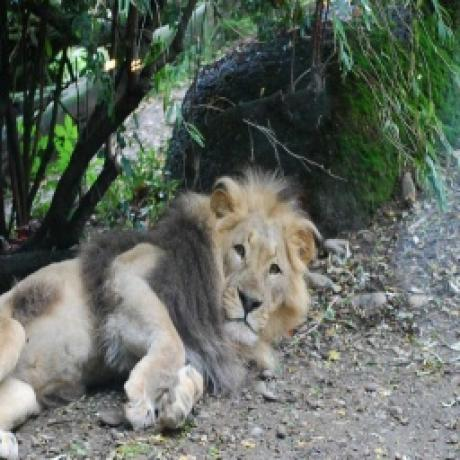Lion: (0, 169, 320, 458)
